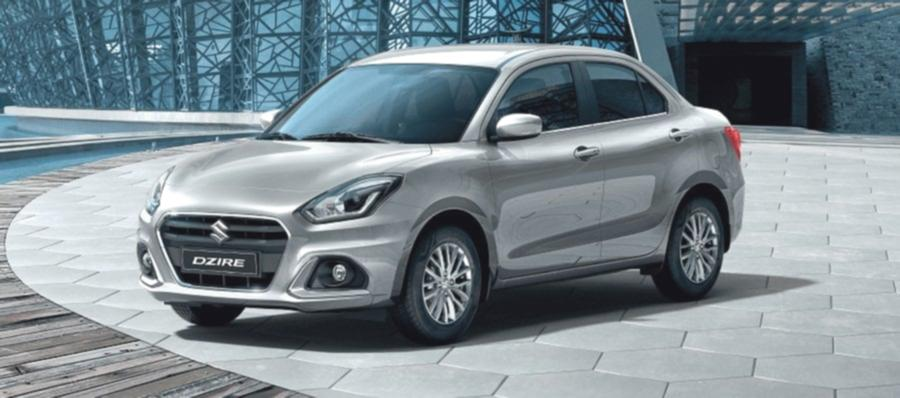suzuki: (206, 217, 234, 247)
